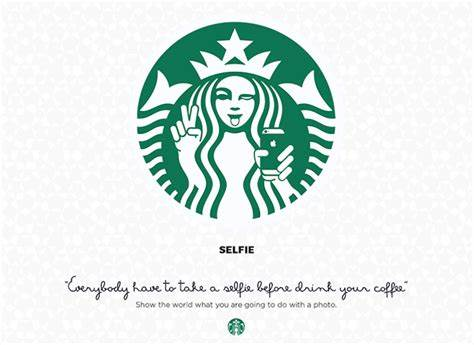starbucks Fake: (131, 18, 343, 226)
